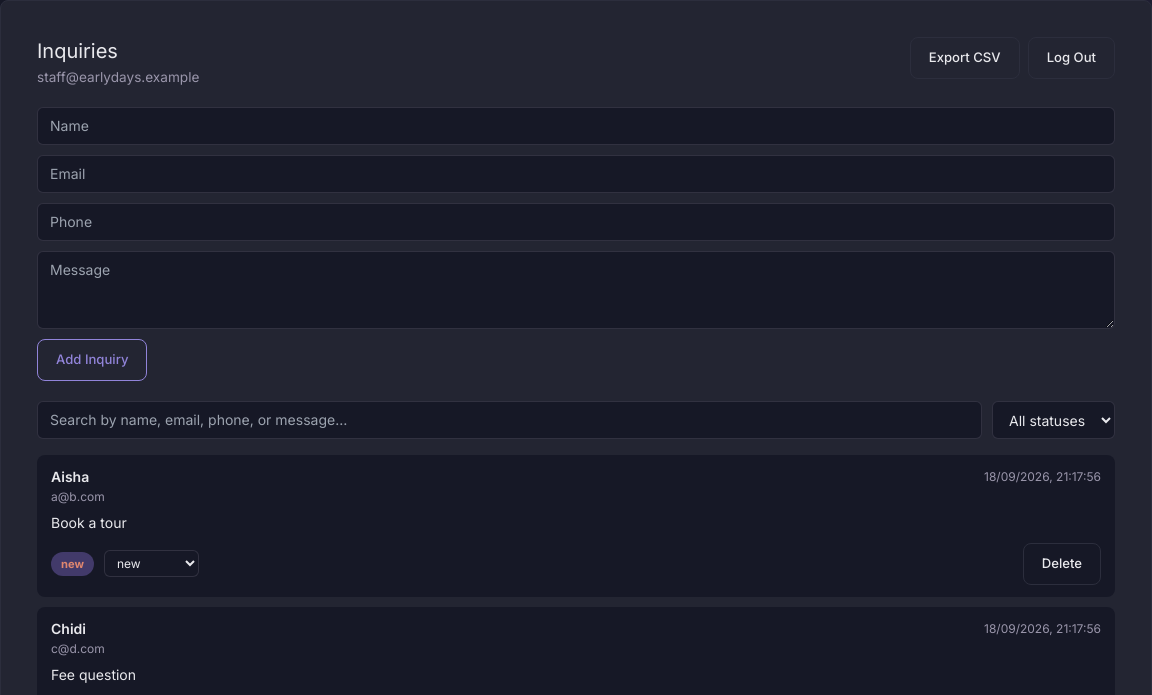
Test: AdminInquiriesPanel › narrows the list by the status filter
The image size is (1152, 695).
Expected: the text "Aisha" is shown, [51,467,89,487]
Select "resolved" in the dropdown named "Filter by status" at (1054, 420), box [992,401,1115,439]
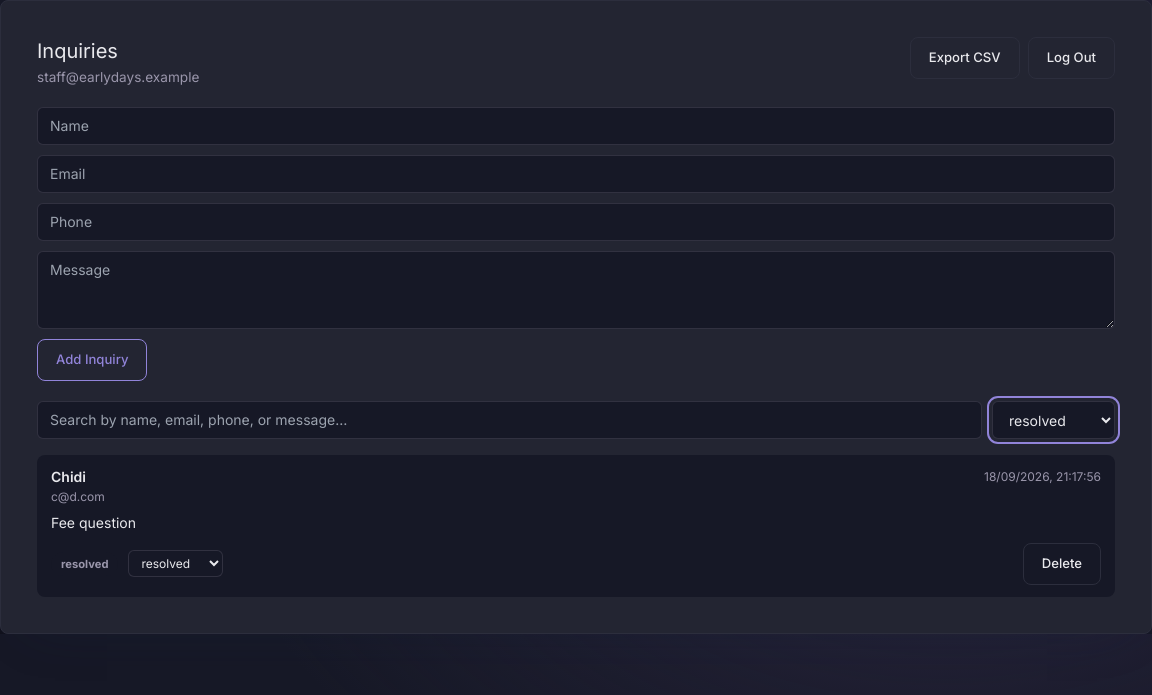
Expected: the text "Chidi" is shown, [51,467,86,487]
Now the text "Aisha" is gone
